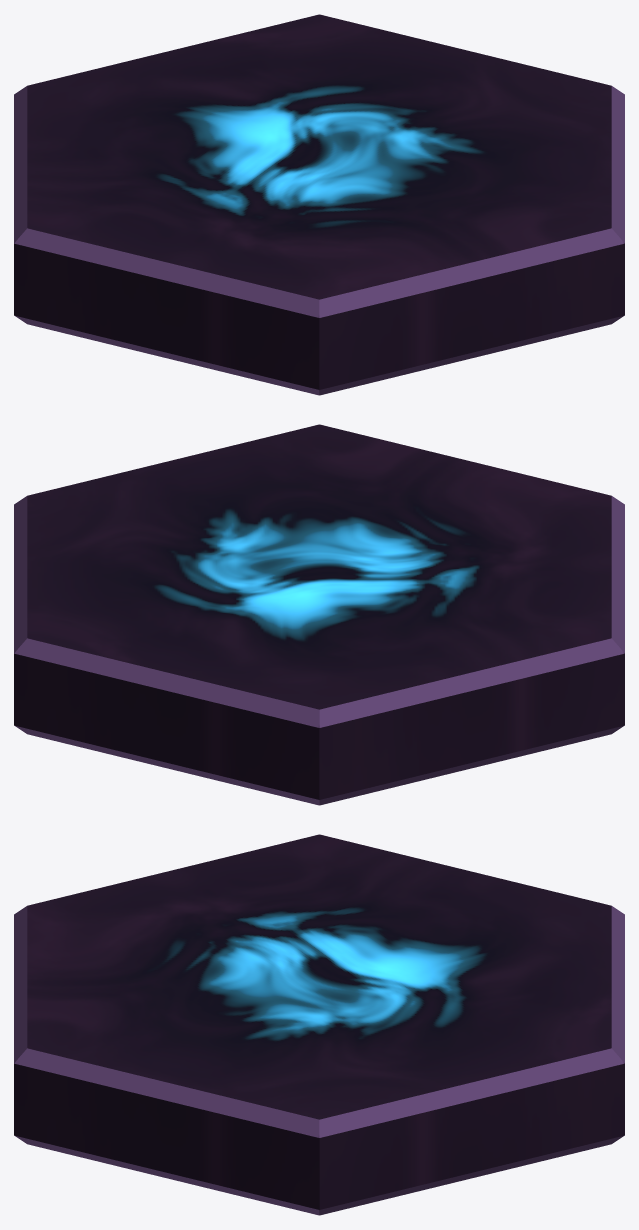
File: example_tile.glb
The picture shows the model from 3 angles, top to bottom: view 1: azimuth 30°, elevation 25°; view 2: azimuth 150°, elevation 25°; view 3: azimuth 270°, elevation 25°; orthographic projection.
Parts seen in each view (by area): view 1: Ex1Tile; view 2: Ex1Tile; view 3: Ex1Tile.
Boxes of the visible parts, x1,y1,x2,y2 form: Ex1Tile: (14,14,624,395); Ex1Tile: (14,424,624,805); Ex1Tile: (14,834,624,1215).
Bounding box in the file's own units: 2 × 0.3 × 1.73.
Materials: 1 (1 with a texture image).
